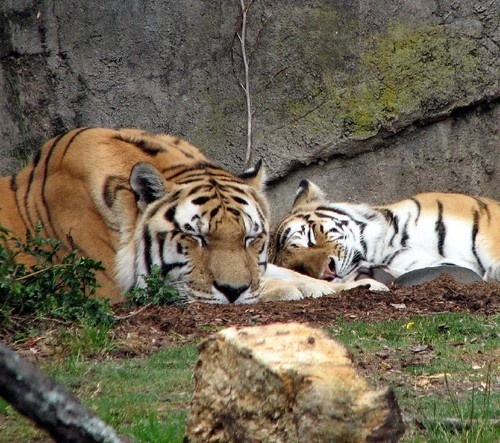tigre: (1, 122, 327, 307), (271, 177, 500, 283)
